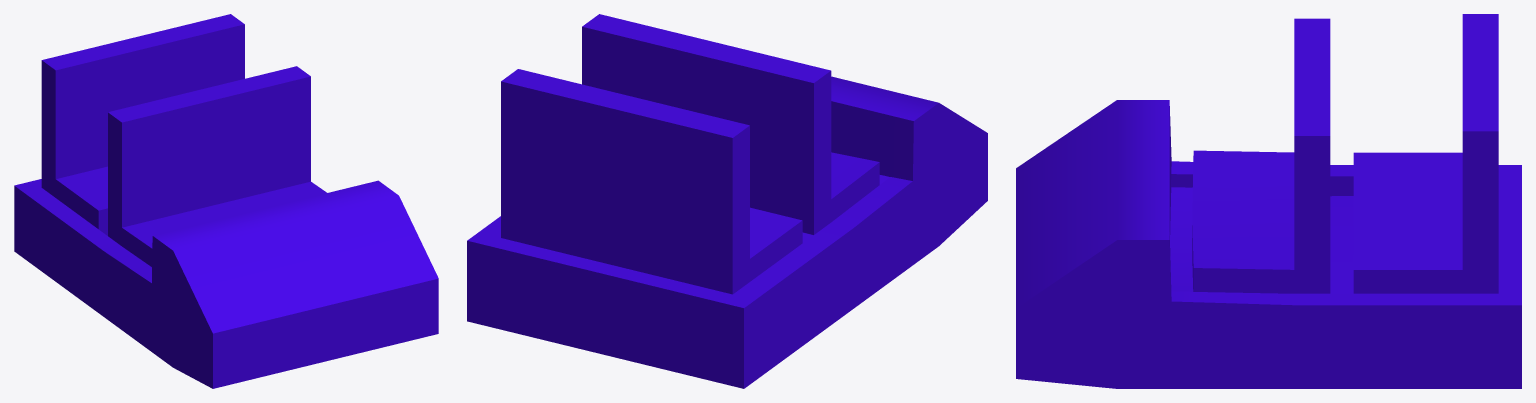
File: LowPolyCart_02.fbx
The picture shows the model from 3 angles, left to right: view 1: azimuth 30°, elevation 25°; view 2: azimuth 150°, elevation 25°; view 3: azimuth 270°, elevation 25°; orthographic projection. The views are drawn at different scales.
Parts seen in each view (by area): view 1: LowPolyCart_01:pCube1; view 2: LowPolyCart_01:pCube1; view 3: LowPolyCart_01:pCube1.
Boxes of the visible parts, box(x1,y1,x2,y2) form: LowPolyCart_01:pCube1: box(14, 14, 438, 388); LowPolyCart_01:pCube1: box(467, 14, 987, 388); LowPolyCart_01:pCube1: box(1016, 14, 1521, 388).
Size of the model in its own units: 1.47 by 1.2 by 2.23.
